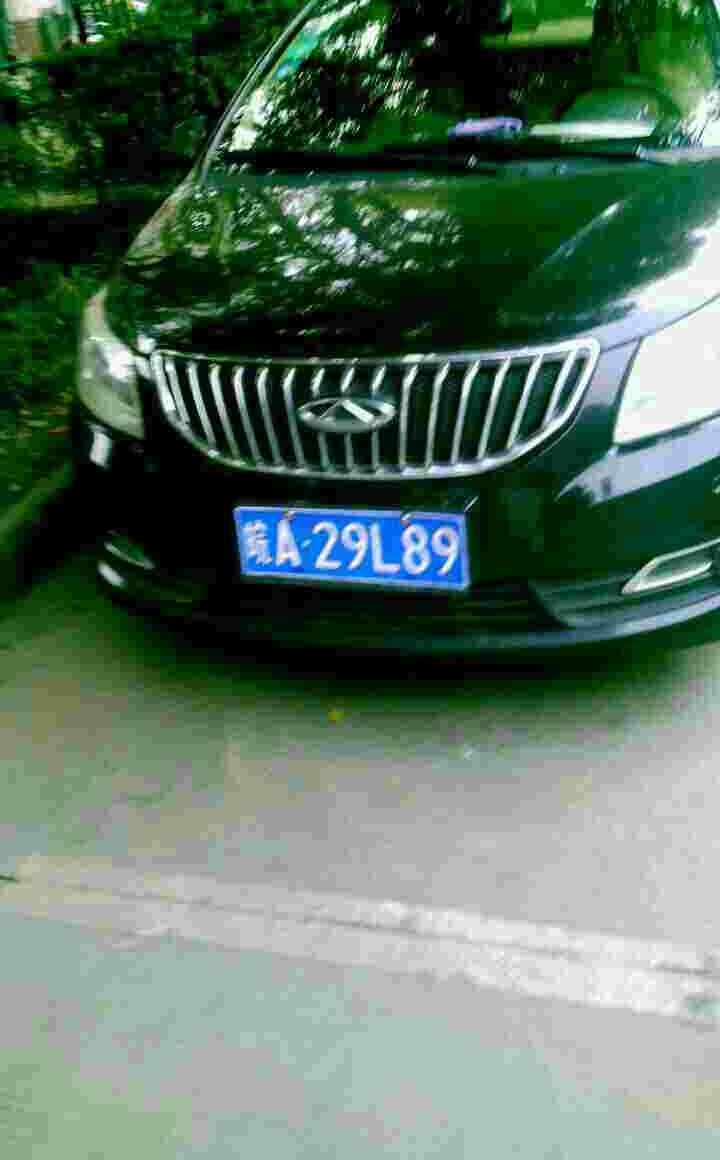license_plate: (234, 507, 465, 574)
